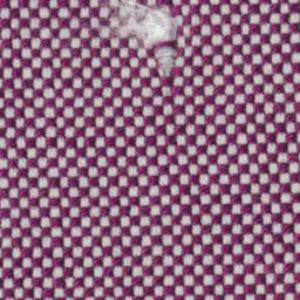fault: (103, 1, 186, 80)
